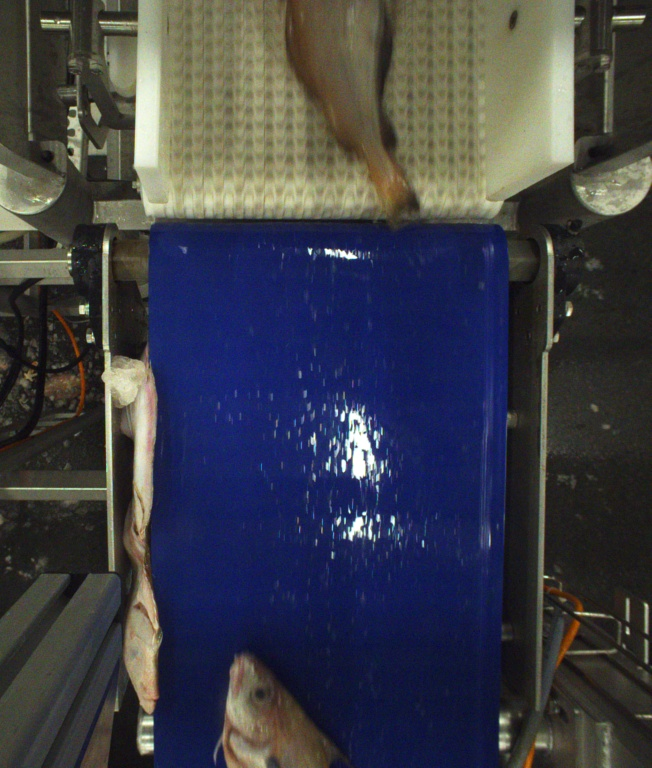BIB: (283, 1, 423, 230)
